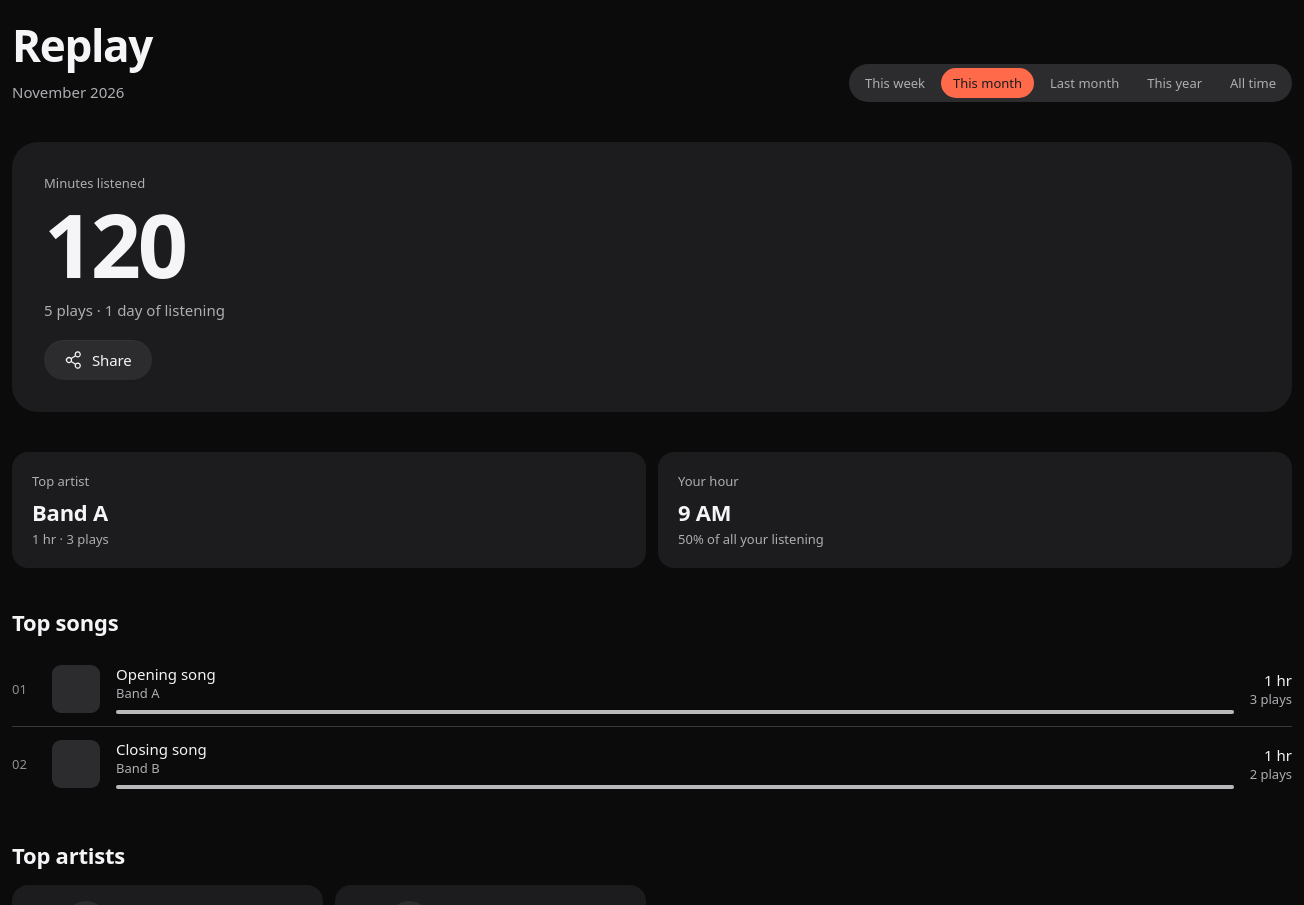
Scenario: ReplayView states › explains an empty week with the week copy
Expected: the tab "This month" is shown, [941,68,1034,98]
Click the tab "This week".
click(895, 83)  # box [853,68,937,98]
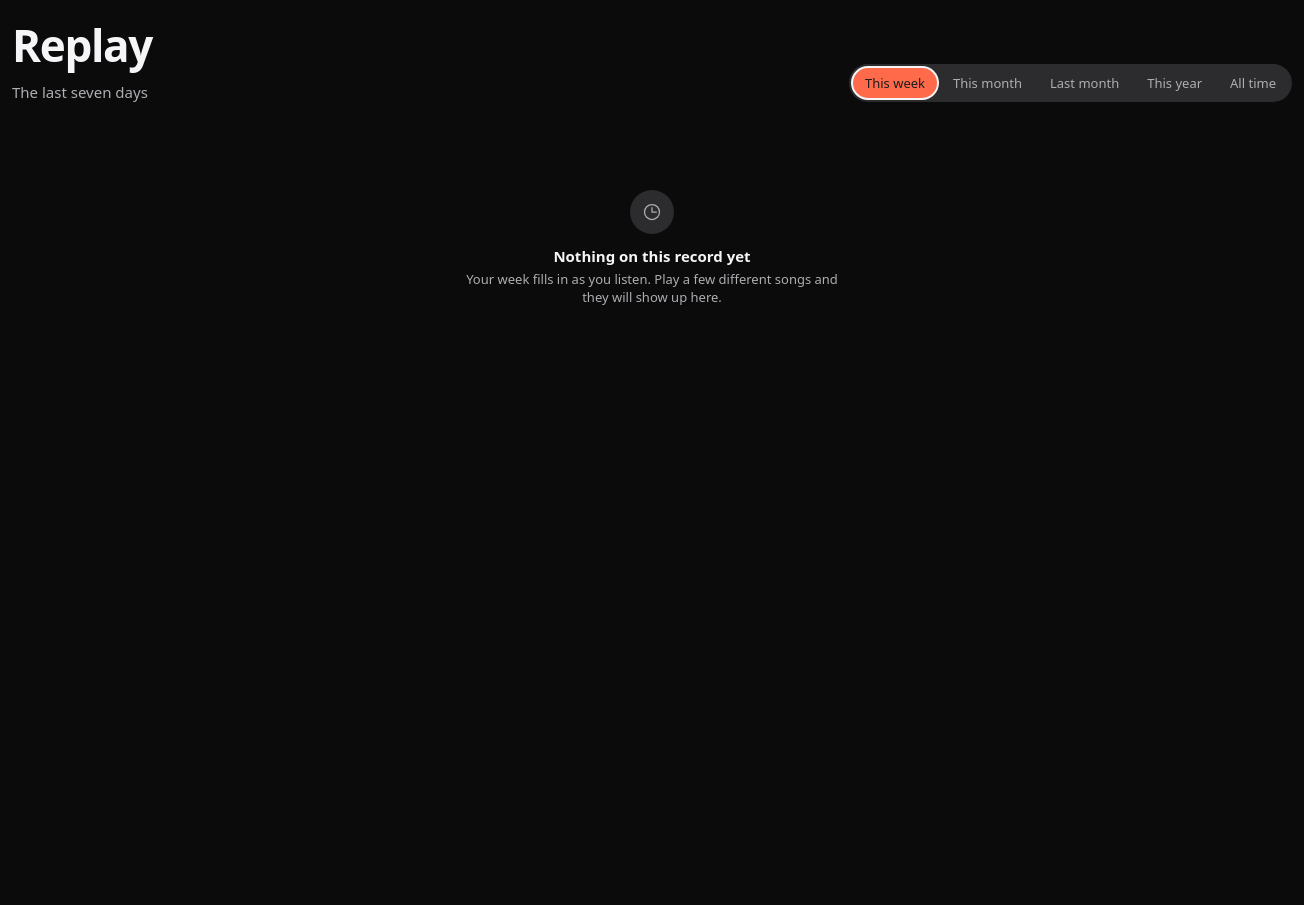
Result: the text "Your week fills in as you listen. Play a few different songs and they will show up here." is shown at [466,270,838,306]
Click the tab "This month".
click(988, 83)  # box [941,68,1034,98]
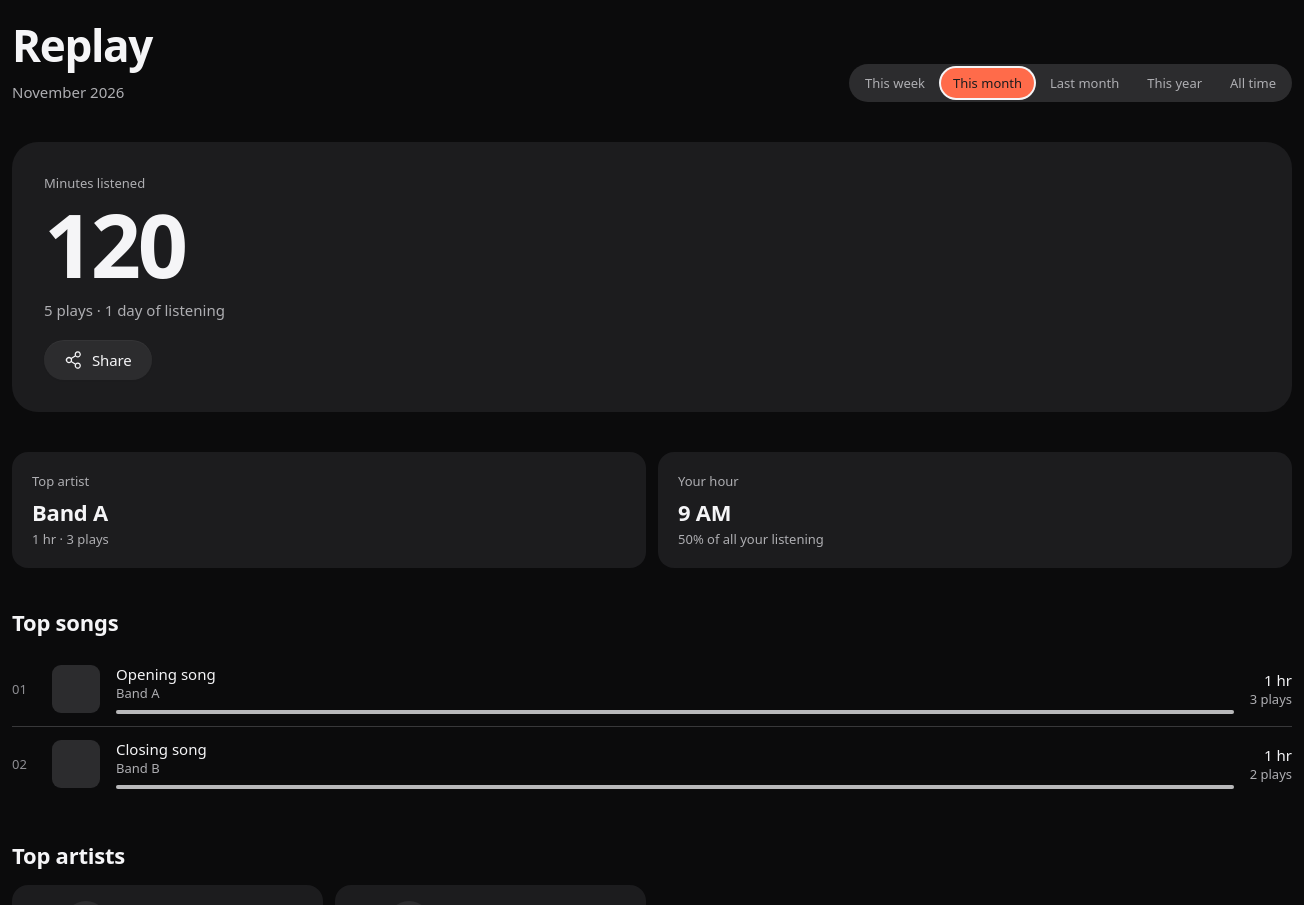
Result: the text "120" is shown at [44,184,184,304]
